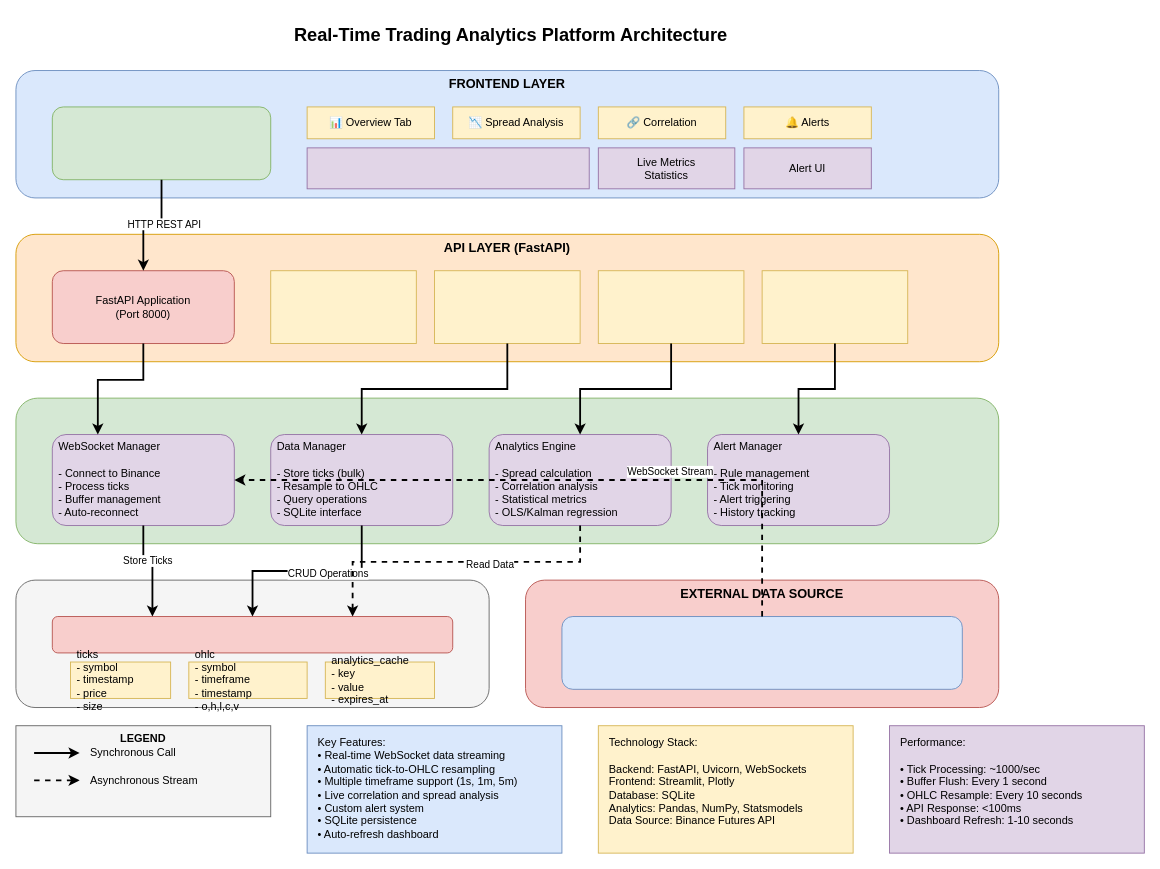
Image size: 1160x869. Some labels were removed from this diagram. The box of each missing label's shape, as (x1, y1, x2, y2) in pixels:
Alert Endpoints /api/alerts /api/alerts/triggered: (761, 270, 908, 344)
Analytics Endpoints /api/correlation /api/spread /api/stats: (597, 270, 744, 344)
Binance Futures WebSocket API wss://fstream.binance.com/ws/{symbol}@trade: (561, 616, 962, 689)
BUSINESS LOGIC LAYER: (15, 397, 999, 544)
Charts - Candlestick - Line - Area: (306, 147, 589, 189)
Collection Endpoints /api/start /api/stop /api/status: (270, 270, 416, 344)
Data Endpoints /api/ohlc /api/ticks /api/symbols /api/export: (434, 270, 580, 344)
DATA LAYER: (15, 579, 489, 708)
SQLite Database (data/trading.db): (51, 616, 453, 653)
Streamlit Dashboard (Port 8501): (51, 106, 271, 180)
